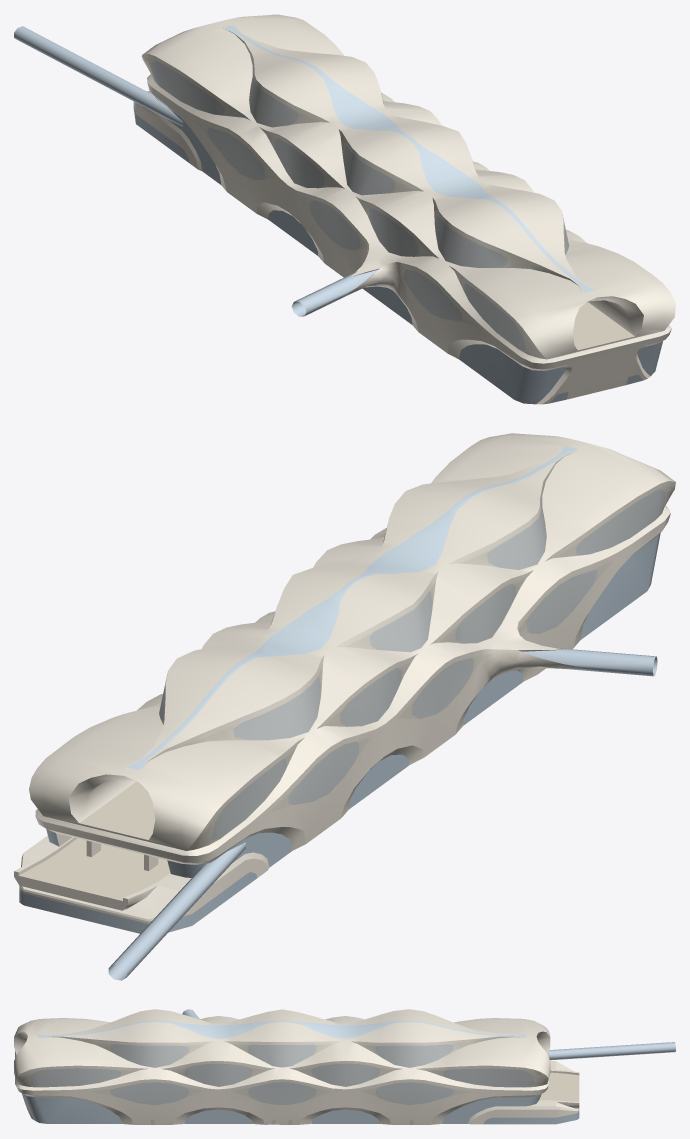
File: metrostantionlod.glb
3 renders of one model, top to bottom at view 1: azimuth 30°, elevation 25°; view 2: azimuth 150°, elevation 25°; view 3: azimuth 270°, elevation 25°, orthographic. The views are drawn at different scales.
Visible parts, largest first — view 1: metrostantionlod; view 2: metrostantionlod; view 3: metrostantionlod.
Boxes of the visible parts, box(x1,y1,x2,y2) form: metrostantionlod: box(14, 14, 675, 404); metrostantionlod: box(14, 433, 675, 980); metrostantionlod: box(14, 1009, 675, 1124).
Bounding box in the file's own units: 74.52 × 32.61 × 245.
Materials: 1 (1 with a texture image).
